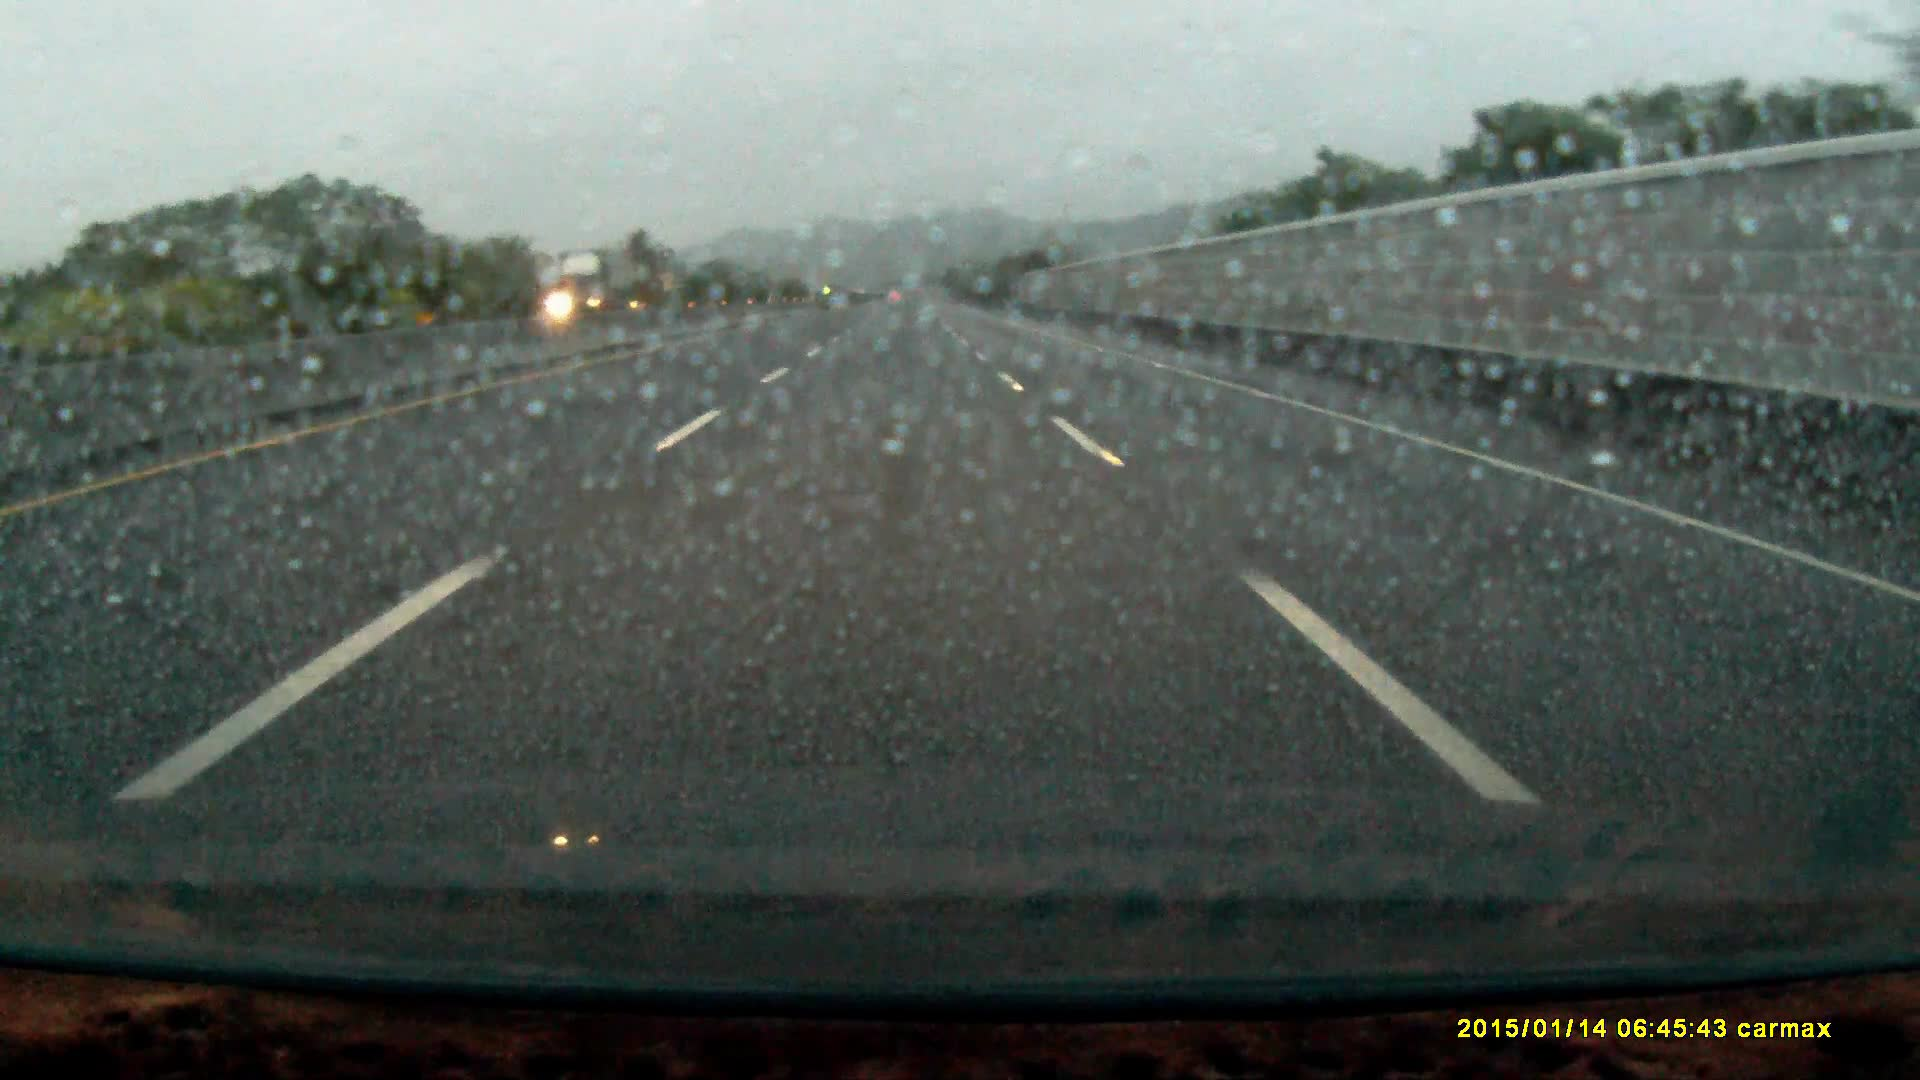vehicle: (546, 253, 644, 318)
